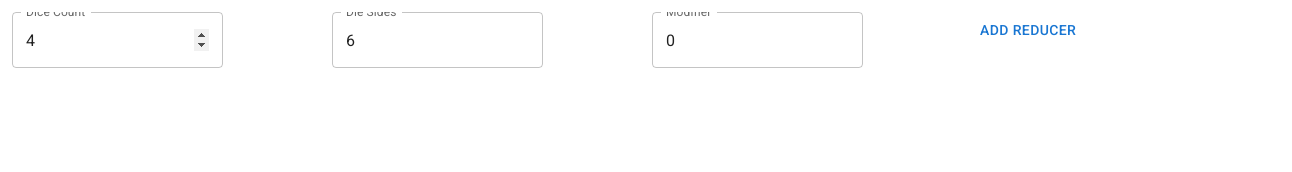
it: Reducer › Can be added
Click the button with test id "diceSetComponent-addReducer". click: x=1028, y=30
box: top-left (972, 12), bottom-right (1084, 48)
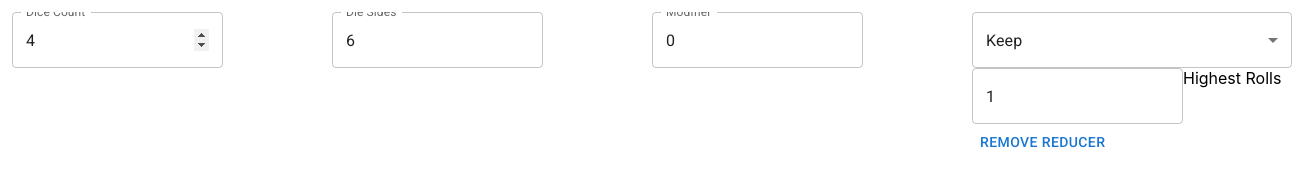
Check: the element with test id "diceSetComponent-reducerType" is shown, box top-left (972, 12), bottom-right (1291, 68)
